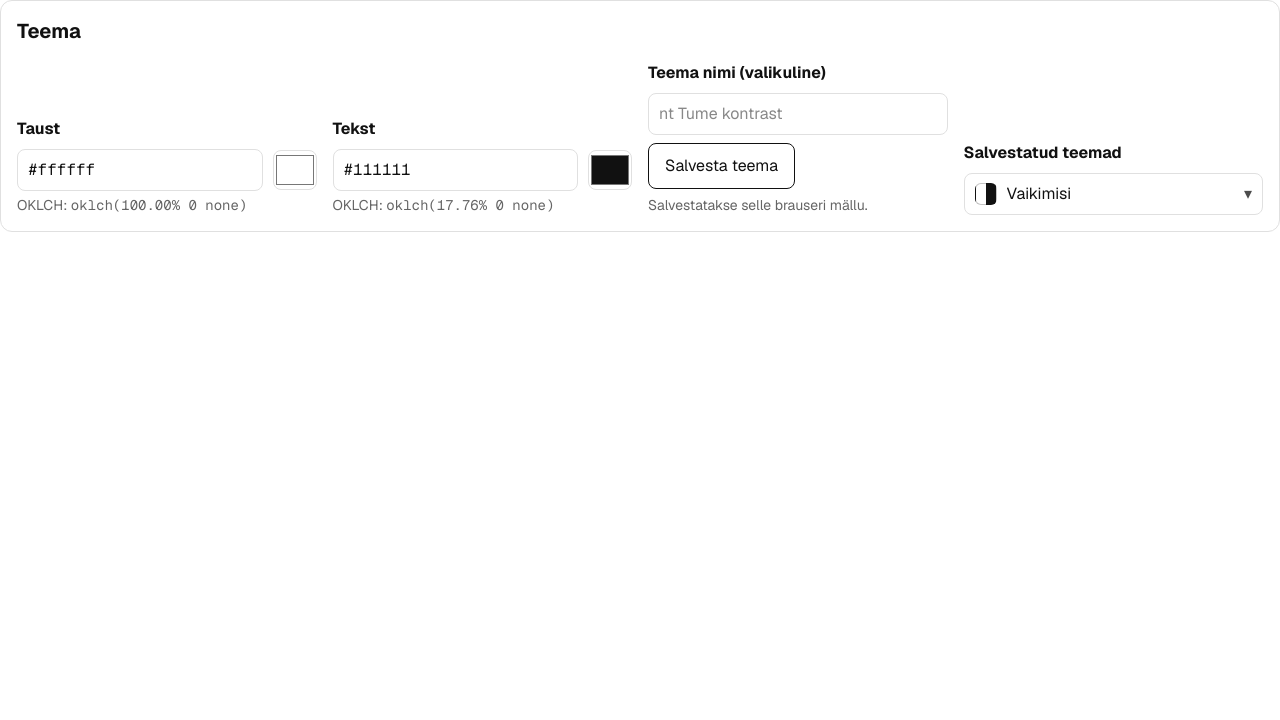
ThemePicker › saves a theme under the name typed, and lists it by that name (#91)
This screenshot has width=1280, height=720.
Step 1. Replace the text in the field labelled "Taust" with "#123456" → (140, 170), box [17, 149, 262, 191]
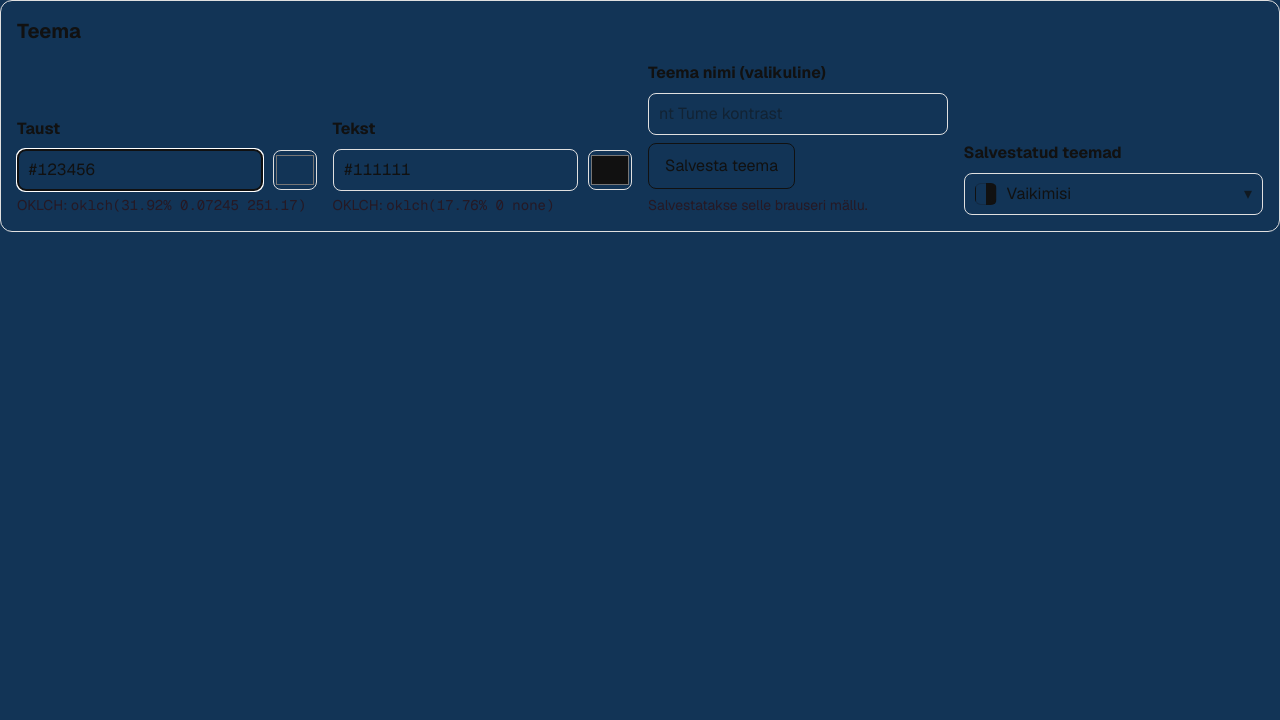
Step 2. Type "  Öine   sinine  " into the field labelled "Teema nimi (valikuline)" → (798, 114), box [648, 93, 948, 135]
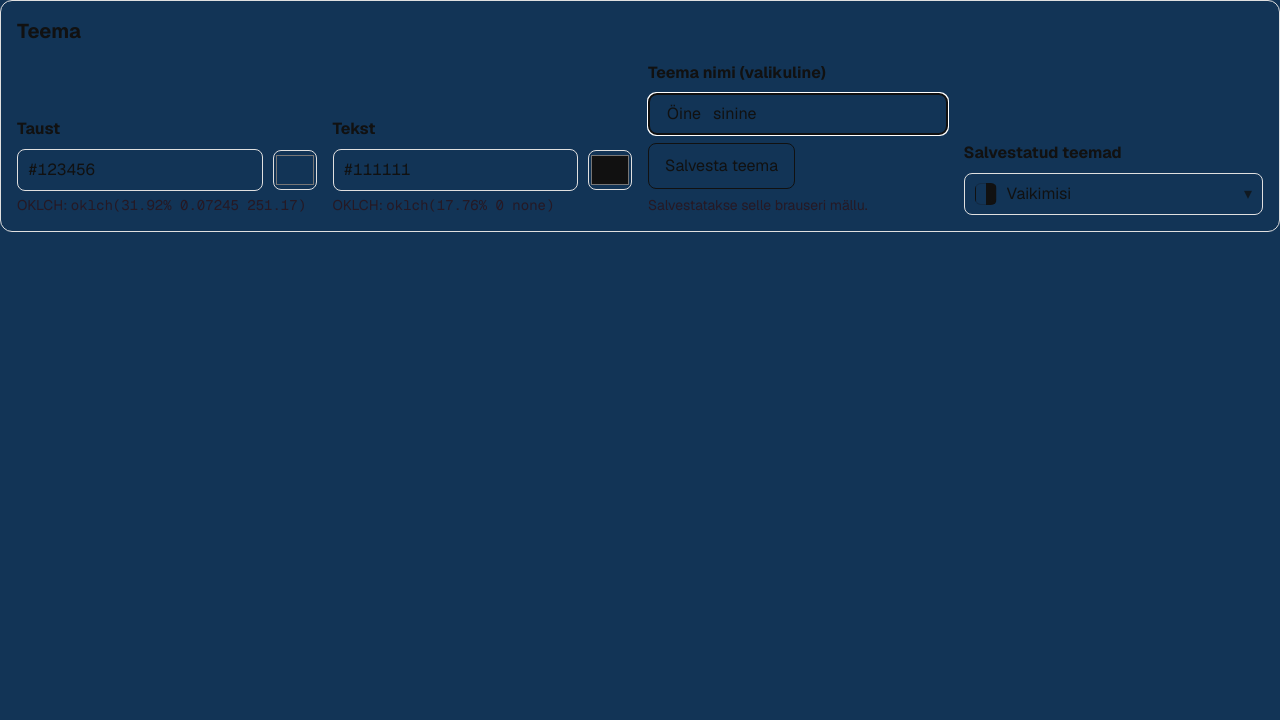
Step 3. Click the button "Salvesta teema" → (722, 166), box [648, 143, 795, 189]
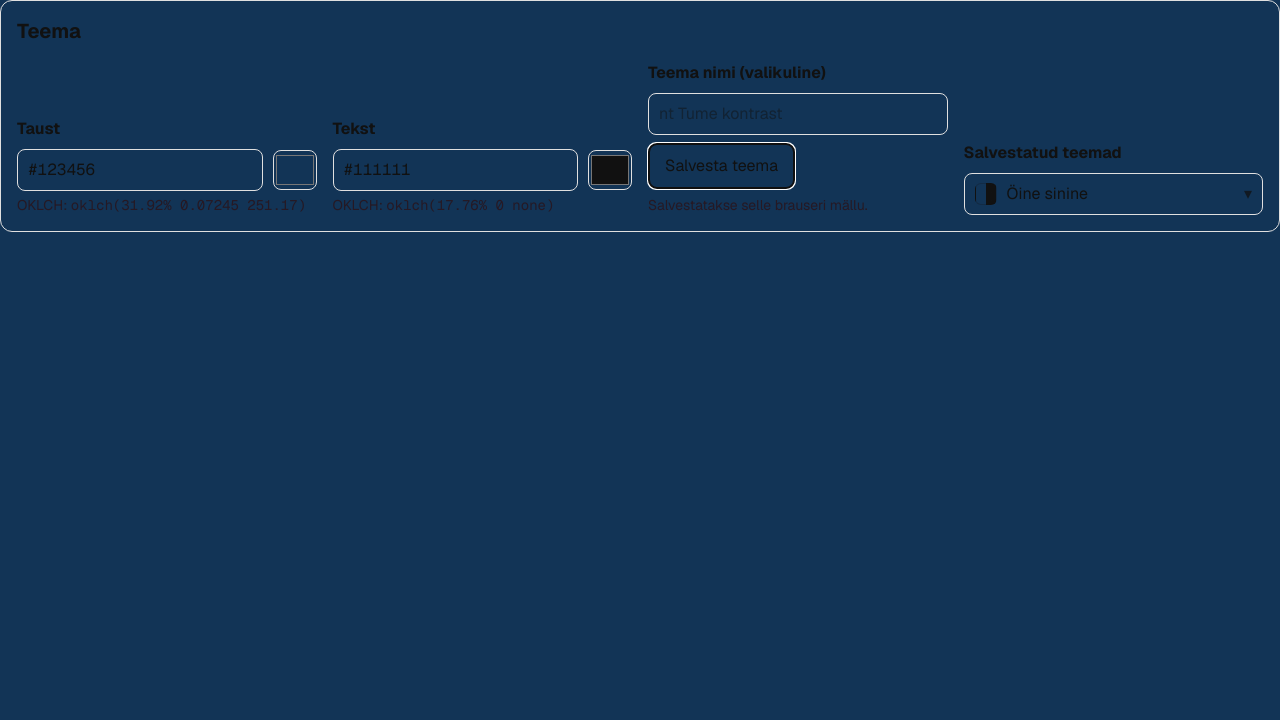
Now the text "Öine sinine" is shown, box [1006, 182, 1088, 206]
Now the field labelled "Teema nimi (valikuline)" is empty, box [648, 93, 948, 135]
Step 4. Click the dropdown named "Salvestatud teemad" → (1047, 194), box [964, 173, 1263, 215]
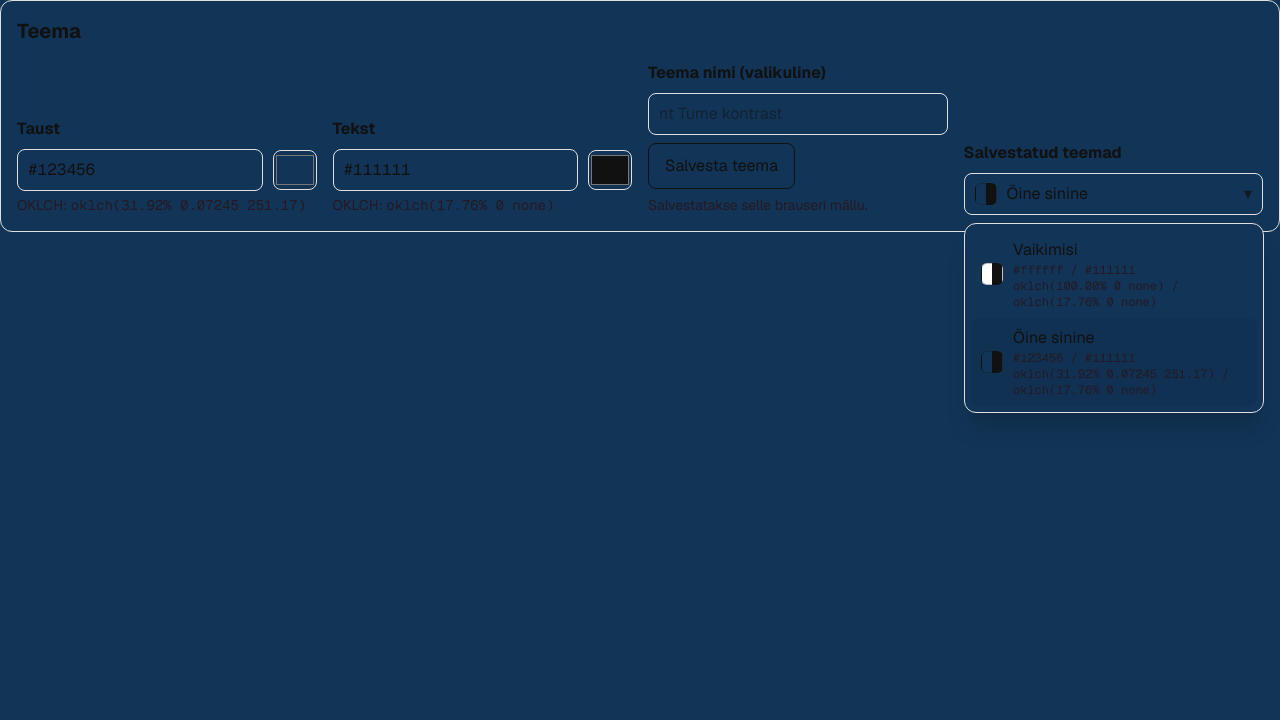
Now the option "Öine sinine" is shown, box [971, 318, 1256, 406]
